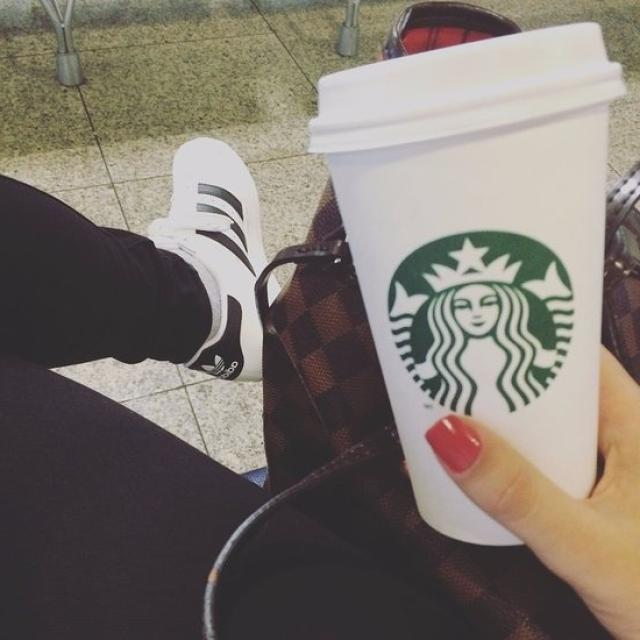starbucks: (382, 225, 580, 427)
